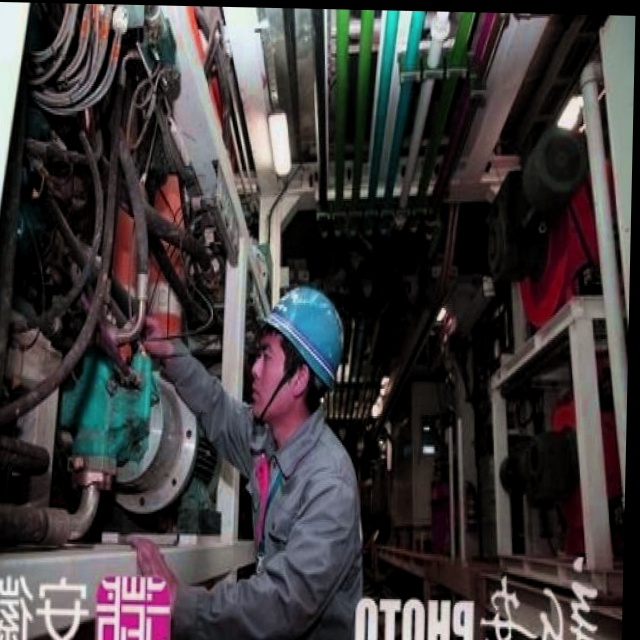Con_Casco: (247, 286, 344, 428)
